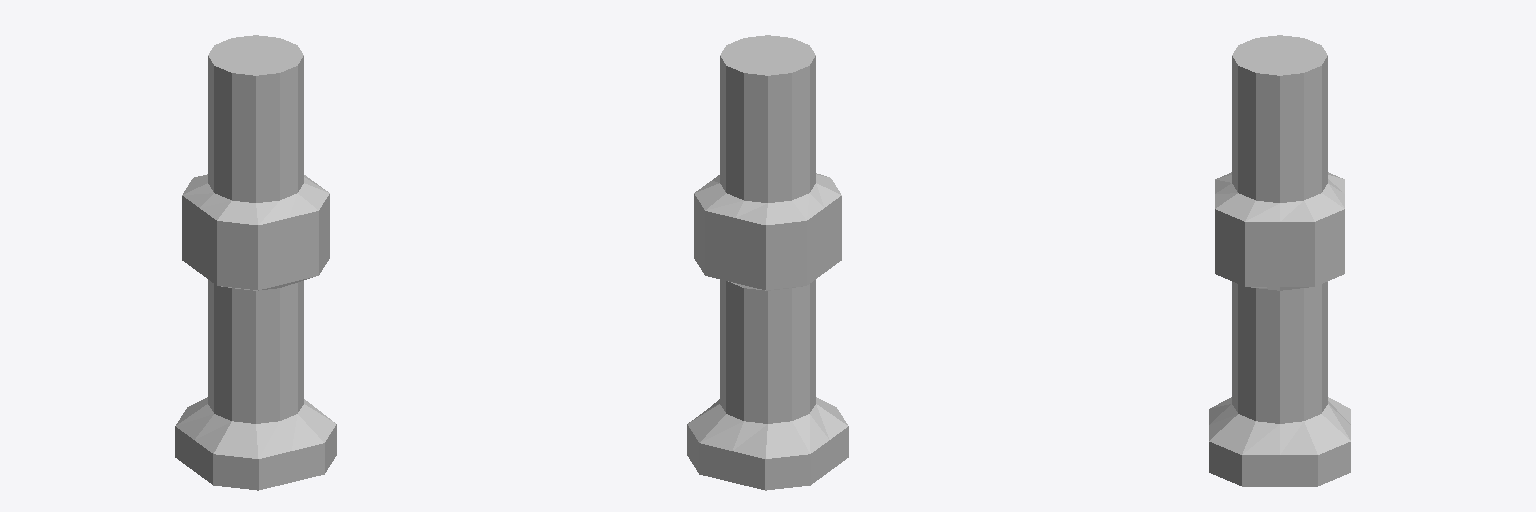
The model's file is Tower 2lvl.obj.
3 renders of one model, left to right at view 1: azimuth 30°, elevation 25°; view 2: azimuth 150°, elevation 25°; view 3: azimuth 270°, elevation 25°, orthographic.
Visible parts, largest first — view 1: pCylinder17; view 2: pCylinder17; view 3: pCylinder17.
Boxes of the visible parts, <box> form: pCylinder17: <box>175,35,336,490</box>; pCylinder17: <box>687,35,848,490</box>; pCylinder17: <box>1209,35,1350,486</box>.
Bounding box in the file's own units: 14.82 × 46.06 × 14.82.